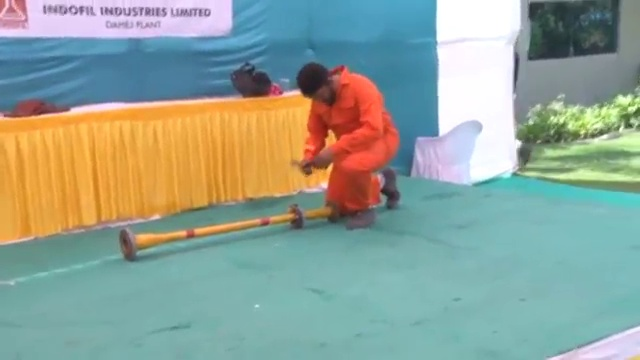helmet_off: (292, 60, 337, 103)
person: (289, 58, 399, 232)
